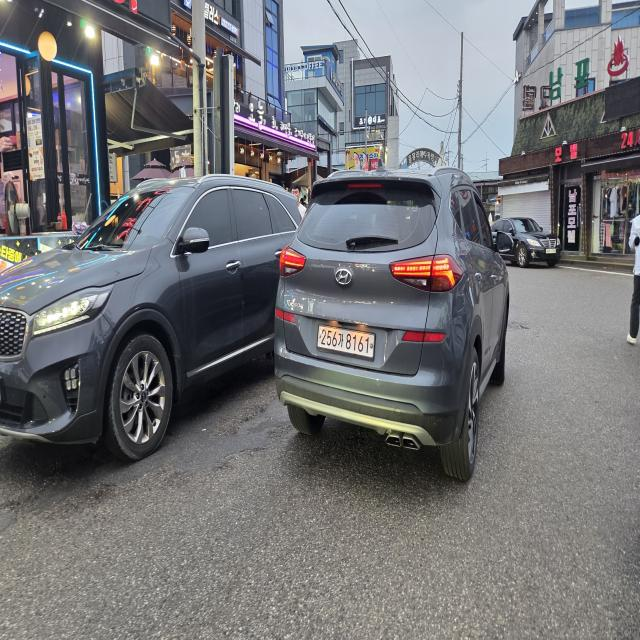car: (252, 141, 520, 497), (0, 159, 316, 460), (483, 184, 566, 284)
